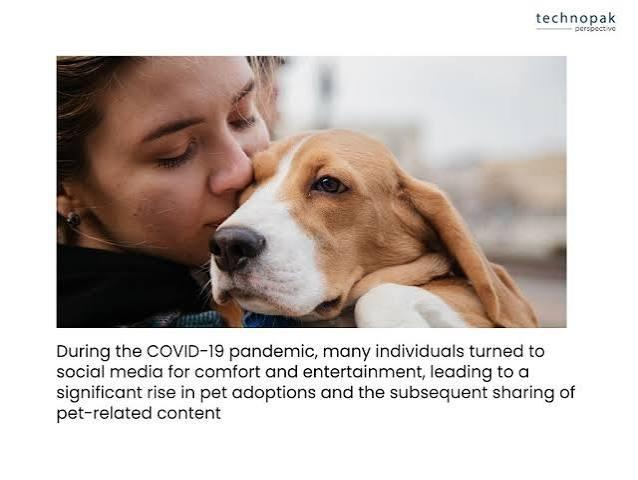adult_dog: (206, 125, 545, 330)
non-dog: (56, 54, 282, 329)
